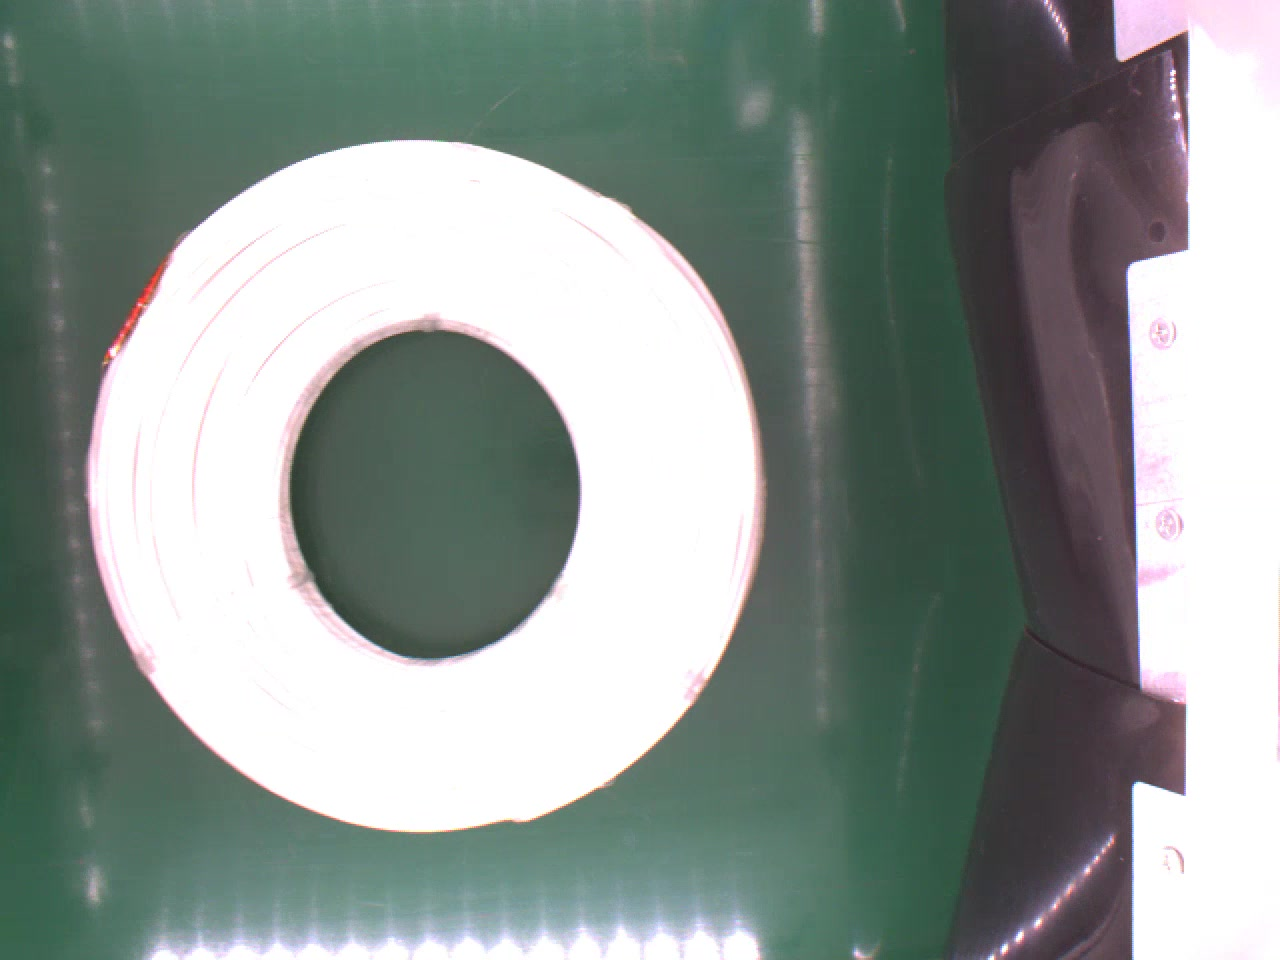white: (65, 136, 765, 838)
